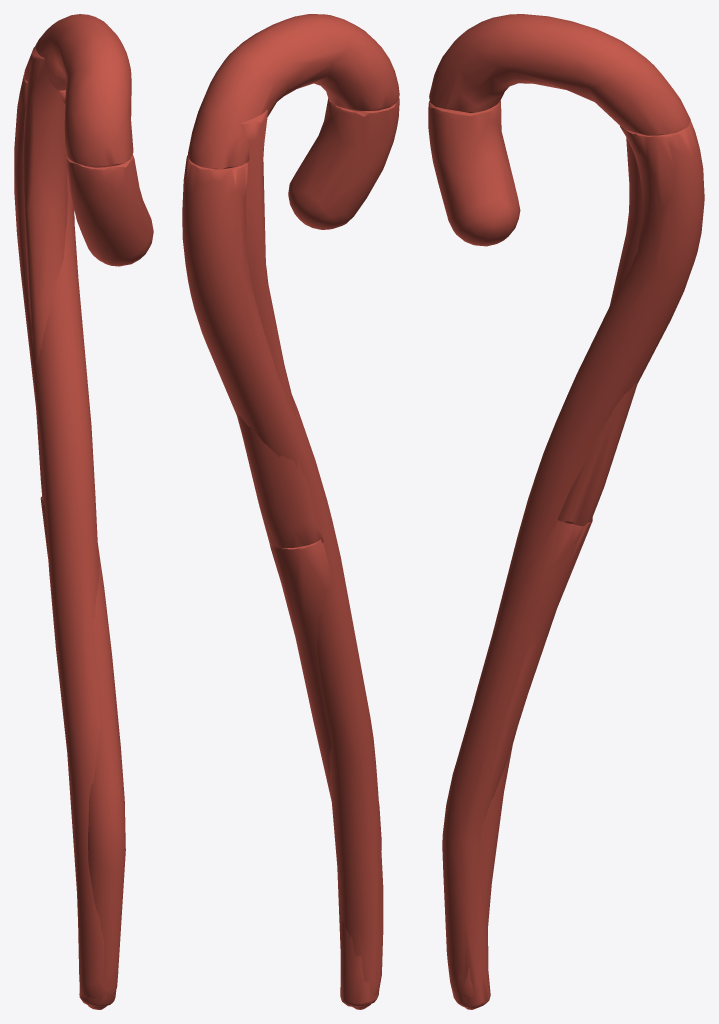
Rendered from aorta.glb.
3 views of the same model, side by side, from view 1: azimuth 30°, elevation 25°; view 2: azimuth 150°, elevation 25°; view 3: azimuth 270°, elevation 25° (orthographic). The views are drawn at different scales.
Visible parts, largest first — view 1: Aorta; view 2: Aorta; view 3: Aorta.
Part boxes in pixels (x1,y1,x2,y2): Aorta: [14, 14, 153, 1009]; Aorta: [182, 14, 399, 1009]; Aorta: [428, 14, 704, 1009].
Bounding box in the file's own units: 0.0417 × 0.3703 × 0.0923.
